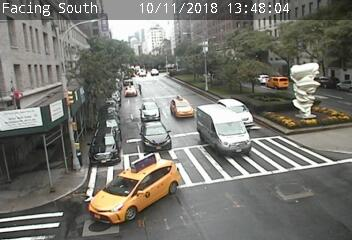car: (88, 158, 181, 223), (197, 104, 250, 155), (216, 98, 252, 129), (90, 128, 120, 163), (141, 121, 170, 151), (171, 99, 193, 119), (140, 102, 160, 121), (266, 76, 288, 91), (124, 85, 137, 97)
